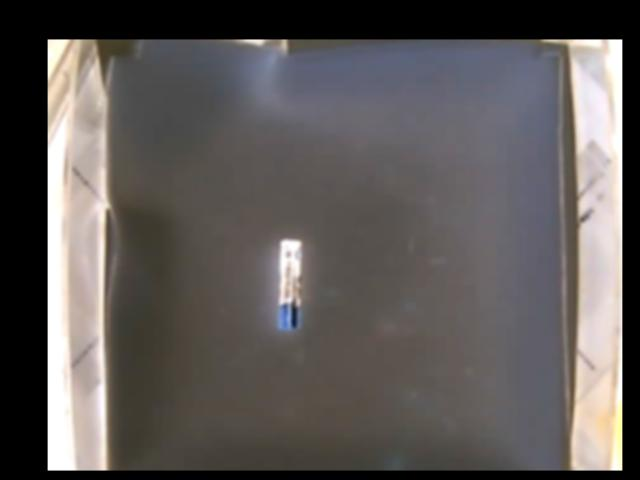Battery: (277, 239, 301, 333)
